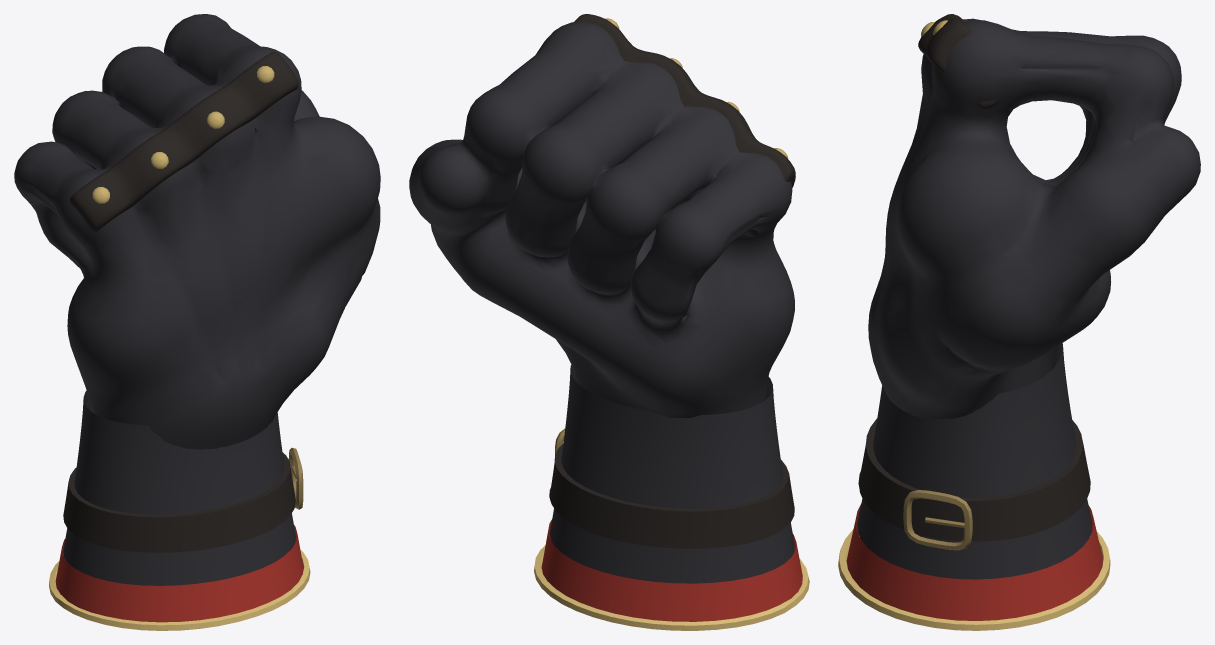
File: fist-l.glb
3 renders of one model, left to right at view 1: azimuth 30°, elevation 25°; view 2: azimuth 150°, elevation 25°; view 3: azimuth 270°, elevation 25°, orthographic. The views are drawn at different scales.
Parts seen in each view (by area): view 1: L_fist-l; view 2: L_fist-l; view 3: L_fist-l.
Part boxes in pixels (bbox=[...]): L_fist-l: bbox=[14, 14, 380, 630]; L_fist-l: bbox=[409, 14, 809, 630]; L_fist-l: bbox=[838, 14, 1200, 630].
Size of the model in its own units: 0.1124 by 0.1789 by 0.0934.
